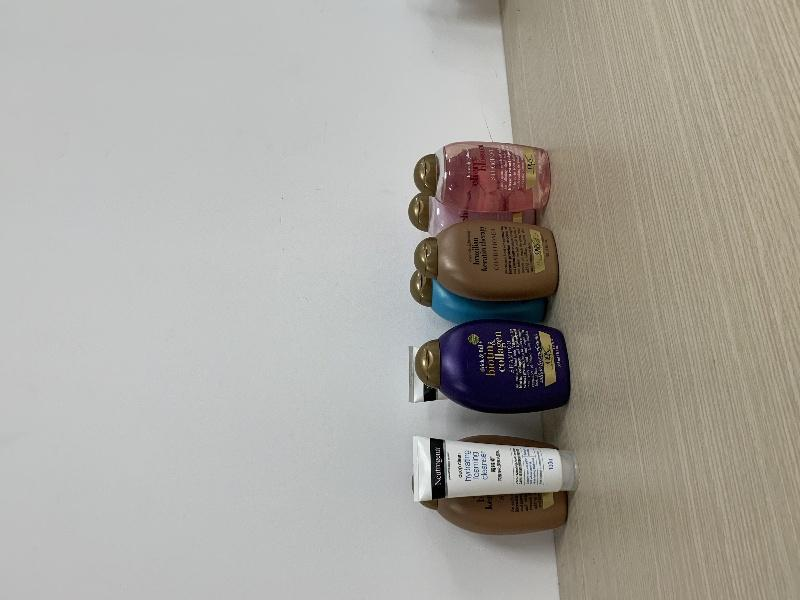BiotinCollagen_Shampoo: (415, 320, 571, 414)
BrazilianKerationTherapy_Conditioner: (414, 221, 559, 302)
CherryBlossom_Shampoo: (414, 141, 550, 212)
HydratingFoamingCleanser: (413, 436, 580, 502)
